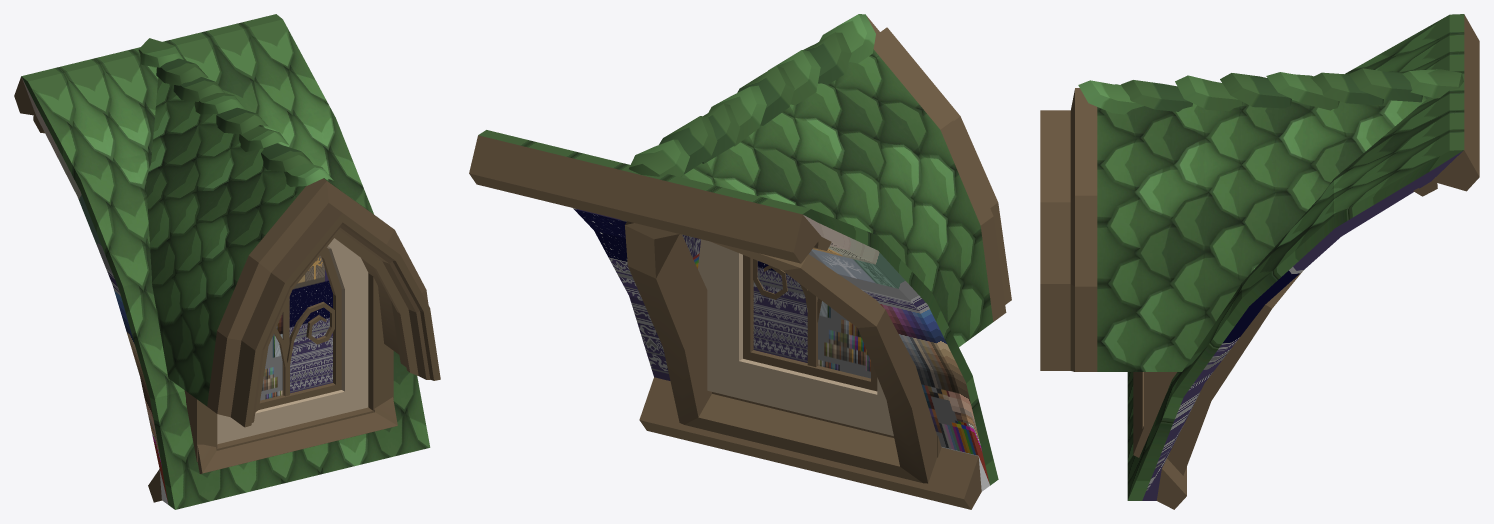
File: elven_SM_Bld_Roof_Convex_Window_01.gltf
The picture shows the model from 3 angles, left to right: view 1: azimuth 30°, elevation 25°; view 2: azimuth 150°, elevation 25°; view 3: azimuth 270°, elevation 25°; orthographic projection. The views are drawn at different scales.
Parts seen in each view (by area): view 1: SM_Bld_Roof_Convex_Window_01, SM_Bld_Roof_Convex_Window_01_Glass; view 2: SM_Bld_Roof_Convex_Window_01, SM_Bld_Roof_Convex_Window_01_Glass; view 3: SM_Bld_Roof_Convex_Window_01.
Boxes of the visible parts, x1,y1,x2,y2 form: SM_Bld_Roof_Convex_Window_01: [14, 14, 440, 509]; SM_Bld_Roof_Convex_Window_01_Glass: [260, 256, 332, 400]; SM_Bld_Roof_Convex_Window_01: [469, 14, 1011, 509]; SM_Bld_Roof_Convex_Window_01_Glass: [753, 261, 870, 378]; SM_Bld_Roof_Convex_Window_01: [1040, 14, 1479, 509].
Size of the model in its own units: 2.5 by 3.2 by 3.41.
5 materials, 5 textured.
